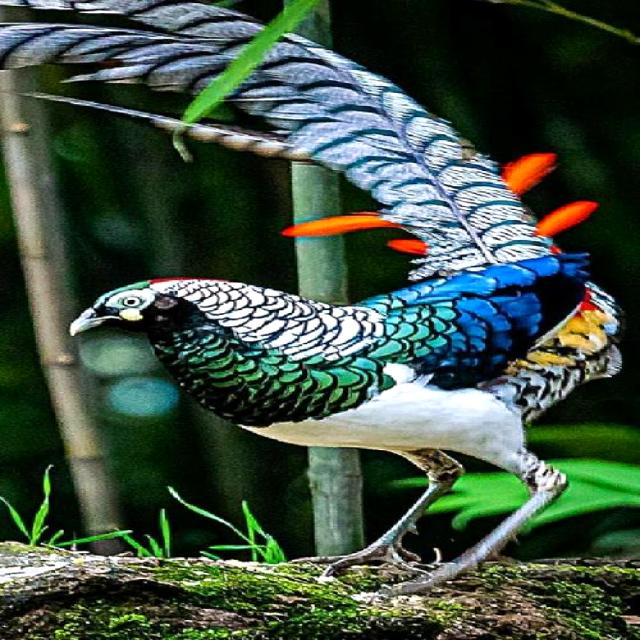Chrysolophus amherstiae: (233, 35, 549, 278), (0, 0, 260, 94)
